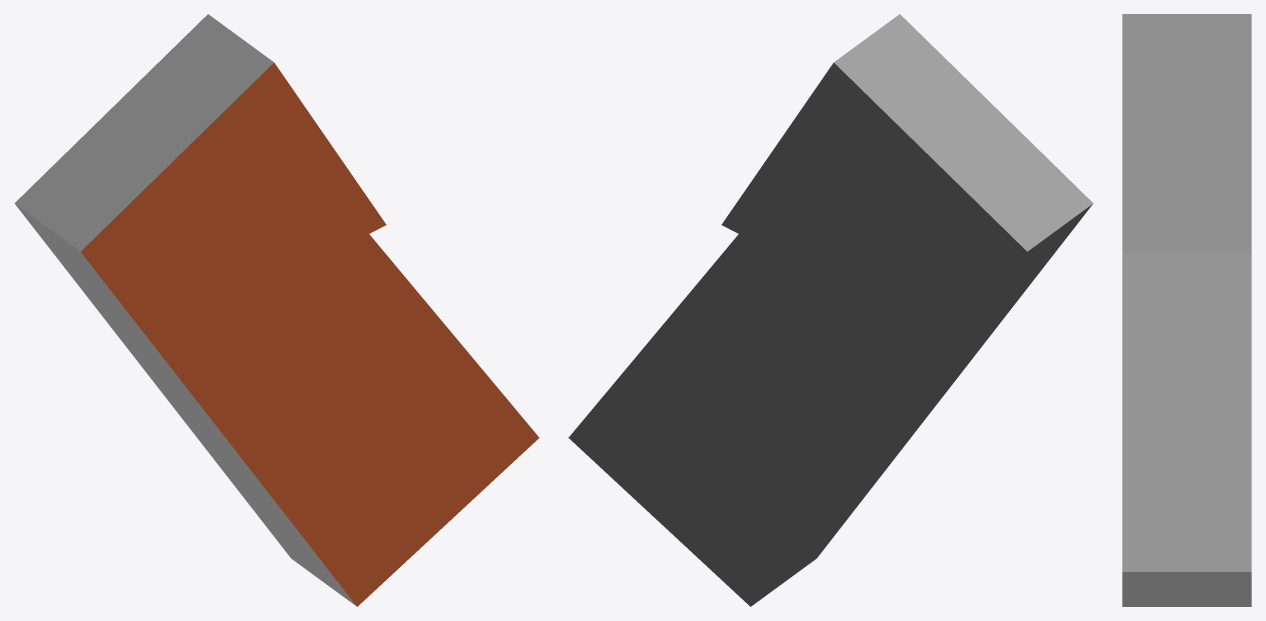
The model's file is construction_5056_assumed_A_Casa_h6m.obj.
3 views of the same model, side by side, from view 1: azimuth 30°, elevation 25°; view 2: azimuth 150°, elevation 25°; view 3: azimuth 270°, elevation 25° (orthographic). The views are drawn at different scales.
Visible parts, largest first — view 1: construction_5056_assumed_A_Casa; view 2: construction_5056_assumed_A_Casa; view 3: construction_5056_assumed_A_Casa.
Part boxes in pixels (x1,y1,x2,y2): construction_5056_assumed_A_Casa: (14,14,539,606); construction_5056_assumed_A_Casa: (568,14,1093,606); construction_5056_assumed_A_Casa: (1122,14,1251,606).
Bounding box in the file's own units: 24.02 × 28.25 × 6.
